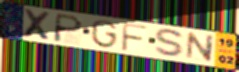F: (120, 22, 150, 54)
G: (90, 19, 119, 50)
N: (184, 32, 217, 64)
P: (51, 13, 85, 44)
S: (153, 28, 187, 59)
X: (21, 7, 54, 43)
